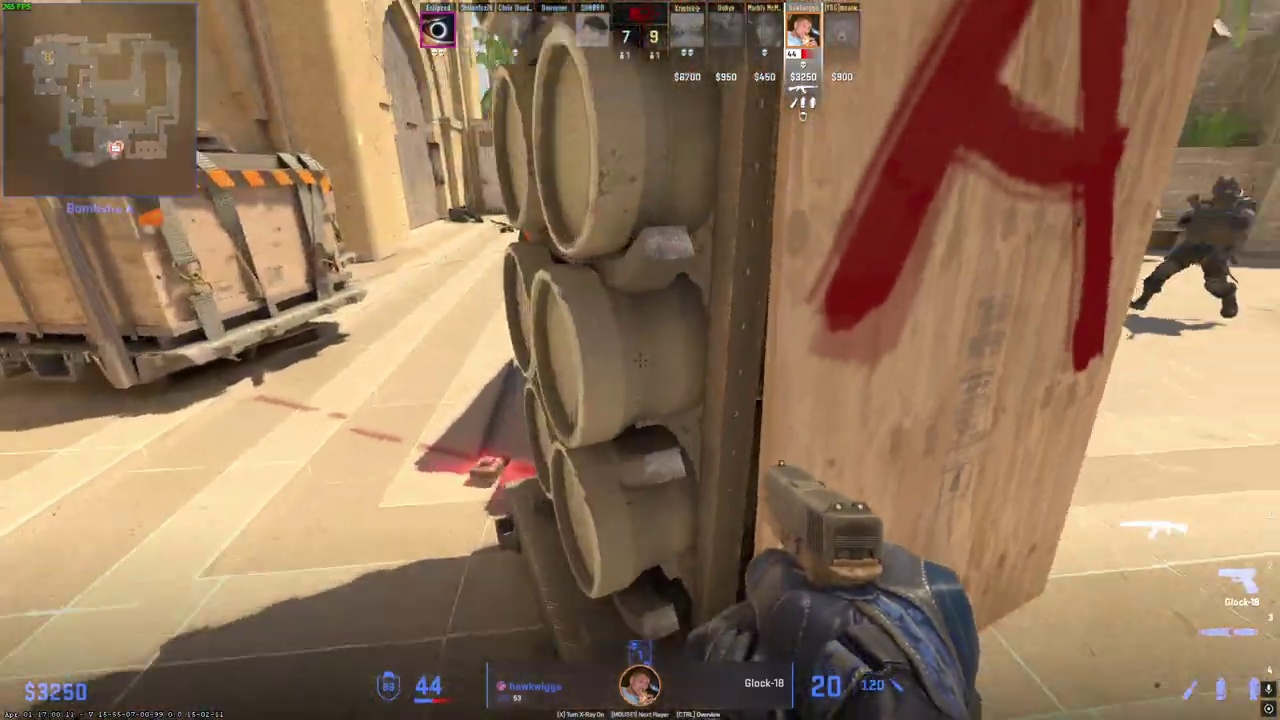CT: (1137, 175, 1255, 318)
